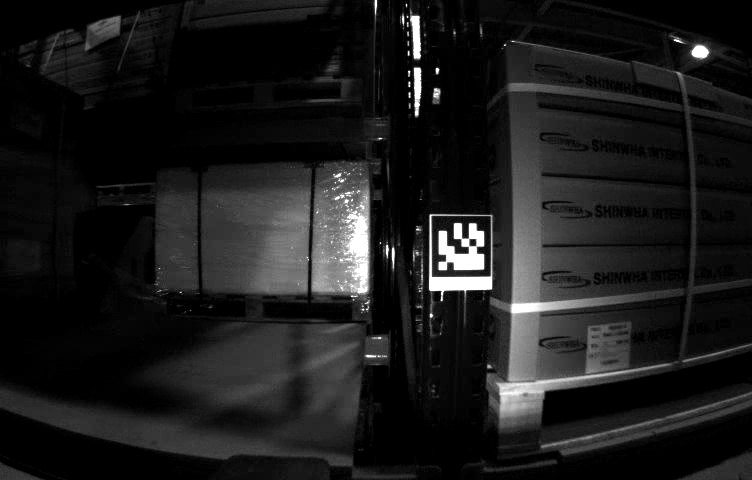True Barcode: (580, 320, 634, 371)
